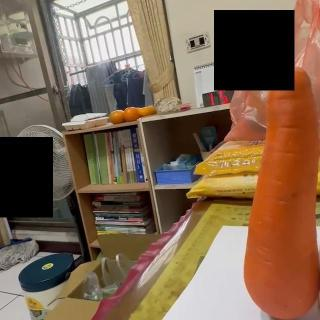carrot: (242, 62, 320, 318)
